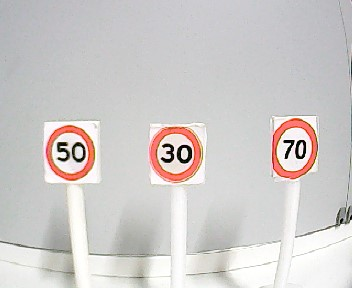30-bord: (150, 127, 203, 181)
50-bord: (47, 126, 95, 181)
70-bord: (271, 120, 317, 180)
